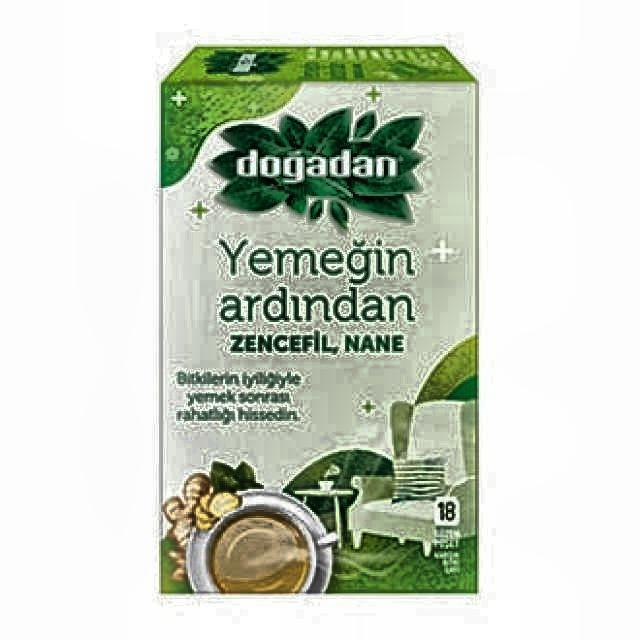cardboard: (158, 44, 482, 597)
